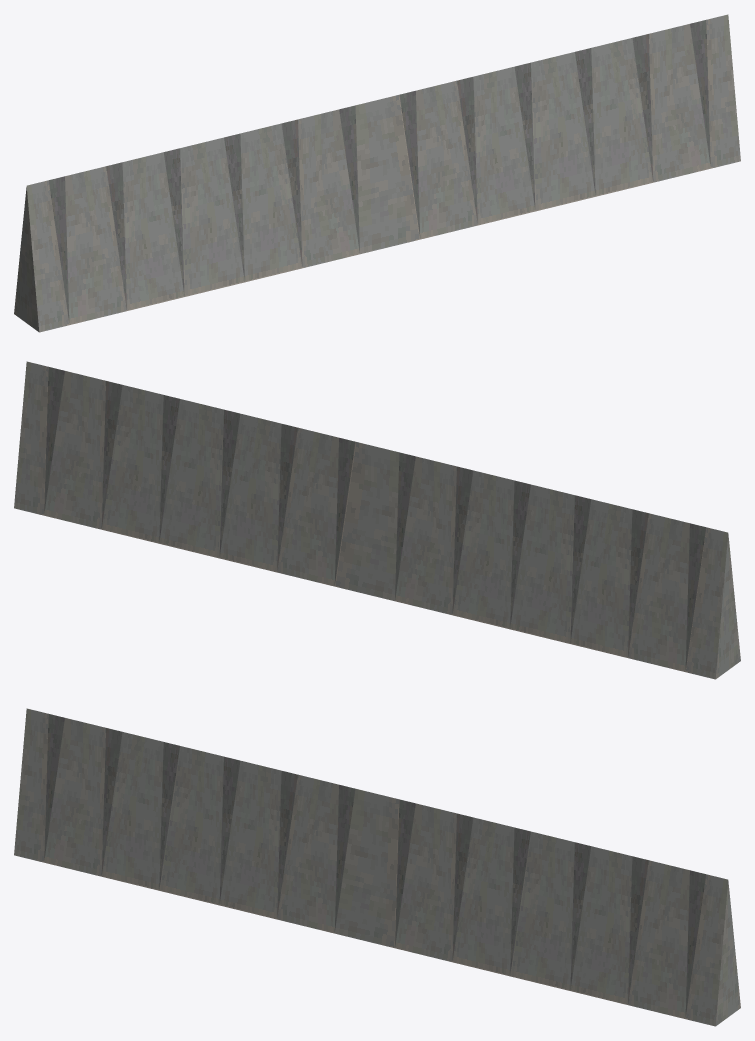
File: mun_all_military_wall_med_impl_32_s01_l2.fbx
The picture shows the model from 3 angles, top to bottom: view 1: azimuth 30°, elevation 25°; view 2: azimuth 150°, elevation 25°; view 3: azimuth 330°, elevation 25°; orthographic projection.
Visible parts, largest first — view 1: mesh_node; view 2: mesh_node; view 3: mesh_node.
Part boxes in pixels (left/top/right/bottom): mesh_node: left=14, top=14, right=740, bottom=332; mesh_node: left=14, top=361, right=740, bottom=679; mesh_node: left=14, top=708, right=740, bottom=1026.
Bounding box in the file's own units: 32 × 6 × 2.
